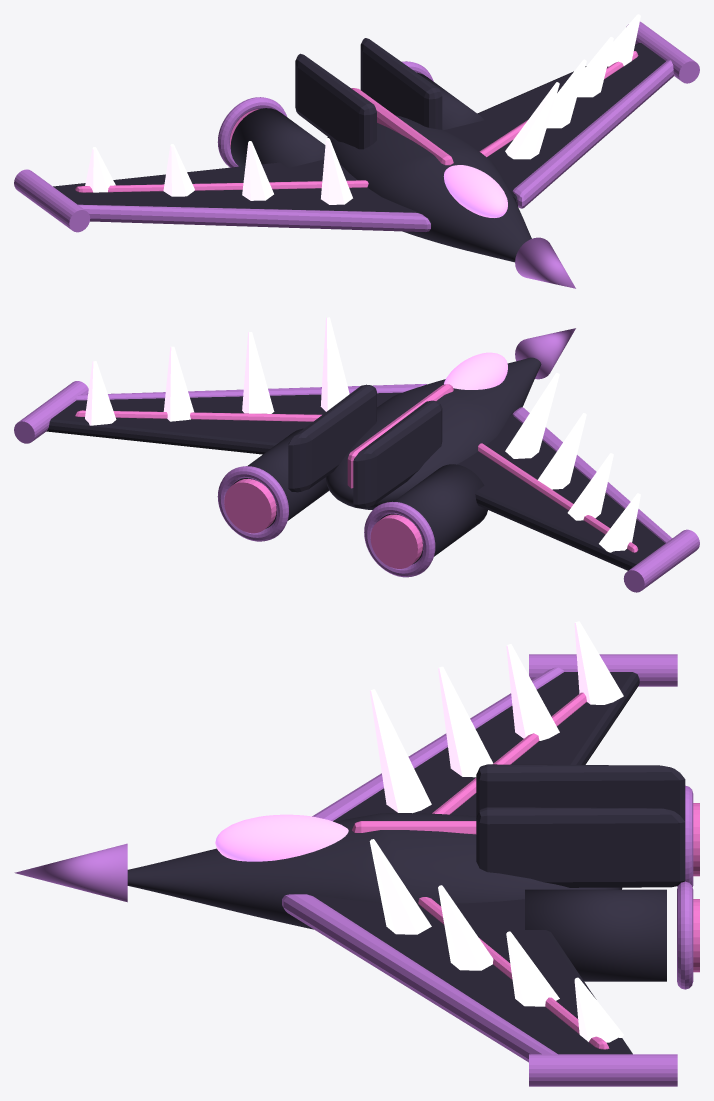
The model's file is SM_Keeper_Umbra_Body.fbx.
The picture shows the model from 3 angles, top to bottom: view 1: azimuth 30°, elevation 25°; view 2: azimuth 150°, elevation 25°; view 3: azimuth 270°, elevation 25°; orthographic projection. The views are drawn at different scales.
Visible parts, largest first — view 1: SM_Keeper_Umbra_Body; view 2: SM_Keeper_Umbra_Body; view 3: SM_Keeper_Umbra_Body.
Boxes of the visible parts, <box> form: SM_Keeper_Umbra_Body: <box>14,14,699,288</box>; SM_Keeper_Umbra_Body: <box>14,317,699,592</box>; SM_Keeper_Umbra_Body: <box>14,621,699,1086</box>.
Bounding box in the file's own units: 6.88 × 1.34 × 4.82.
